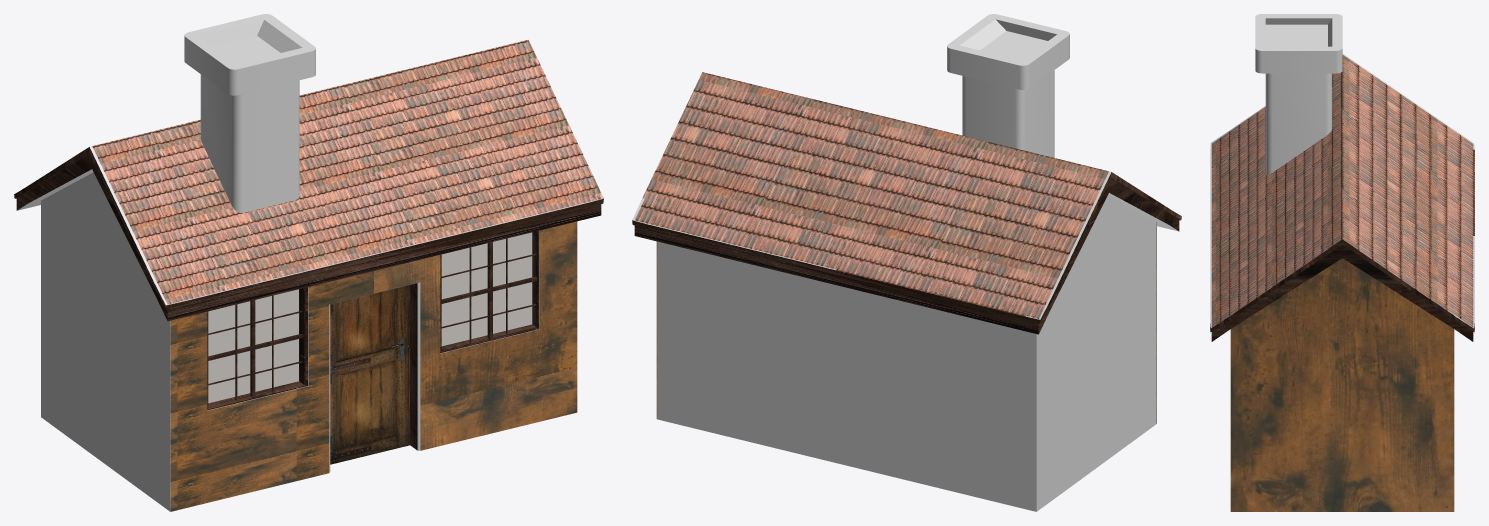
Rendered from House1.fbx.
3 renders of one model, left to right at view 1: azimuth 30°, elevation 25°; view 2: azimuth 150°, elevation 25°; view 3: azimuth 270°, elevation 25°, orthographic. The views are drawn at different scales.
Parts seen in each view (by area): view 1: Cube.001; view 2: Cube.001; view 3: Cube.001.
Boxes of the visible parts, x1,y1,x2,y2 form: Cube.001: (14, 14, 603, 511); Cube.001: (632, 14, 1181, 511); Cube.001: (1210, 14, 1474, 511).
Bounding box in the file's own units: 1732 × 1552 × 1042.
Materials: 6 (4 with a texture image).
